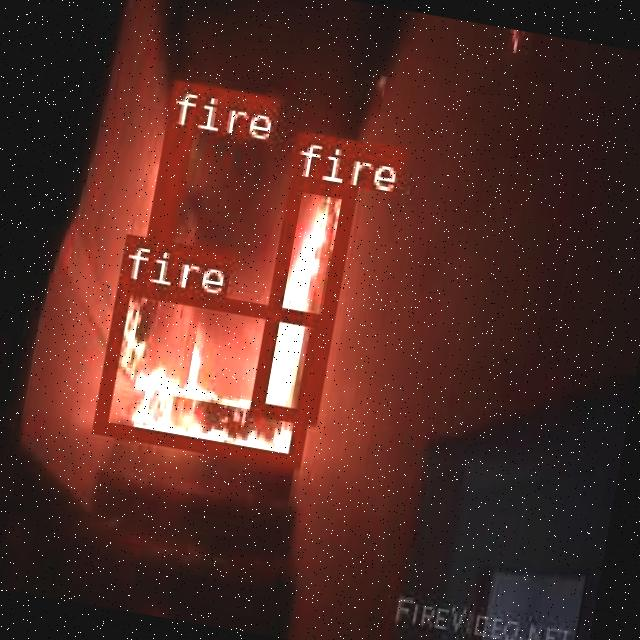fire: (91, 278, 324, 466), (249, 176, 353, 420), (139, 124, 190, 266)
